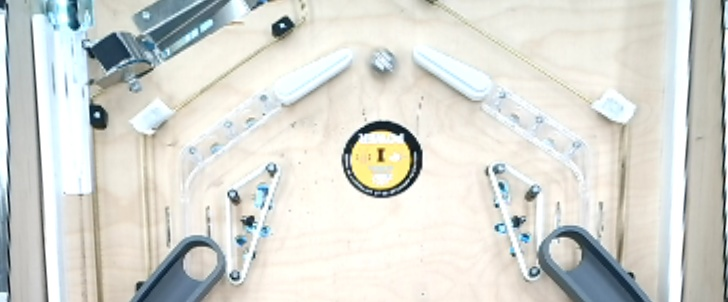ball: (365, 41, 402, 82)
flipper-left: (410, 42, 497, 104)
flipper-right: (268, 45, 356, 108)
